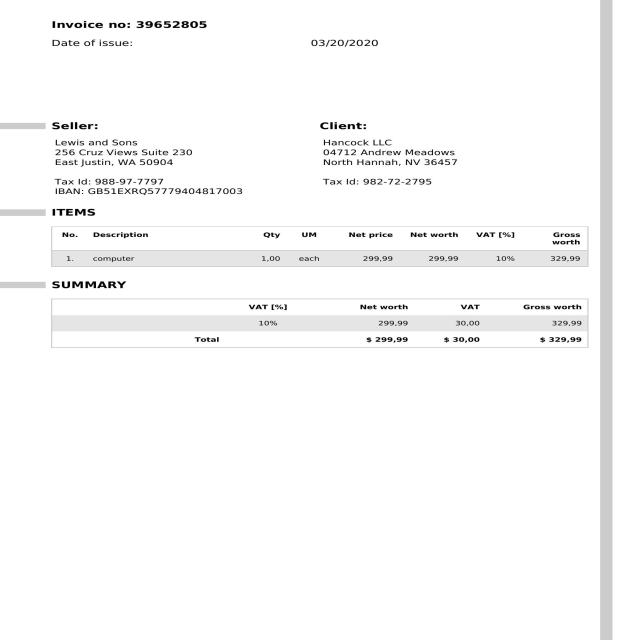customer_address: (321, 147, 472, 169)
customer_name: (322, 136, 398, 148)
invoice_date: (306, 37, 381, 49)
invoice_number: (134, 16, 224, 34)
invoice_subtotal: (348, 332, 418, 347)
invoice_total: (535, 334, 585, 346)
item_description: (91, 254, 137, 266)
item_quantity: (254, 254, 286, 269)
item_total_price: (419, 252, 470, 266)
item_unit_price: (357, 252, 398, 268)
supplier_address: (53, 148, 217, 168)
supplier_name: (54, 138, 141, 148)
tax_amount: (436, 332, 486, 345)
tax_rate: (252, 316, 282, 329)
